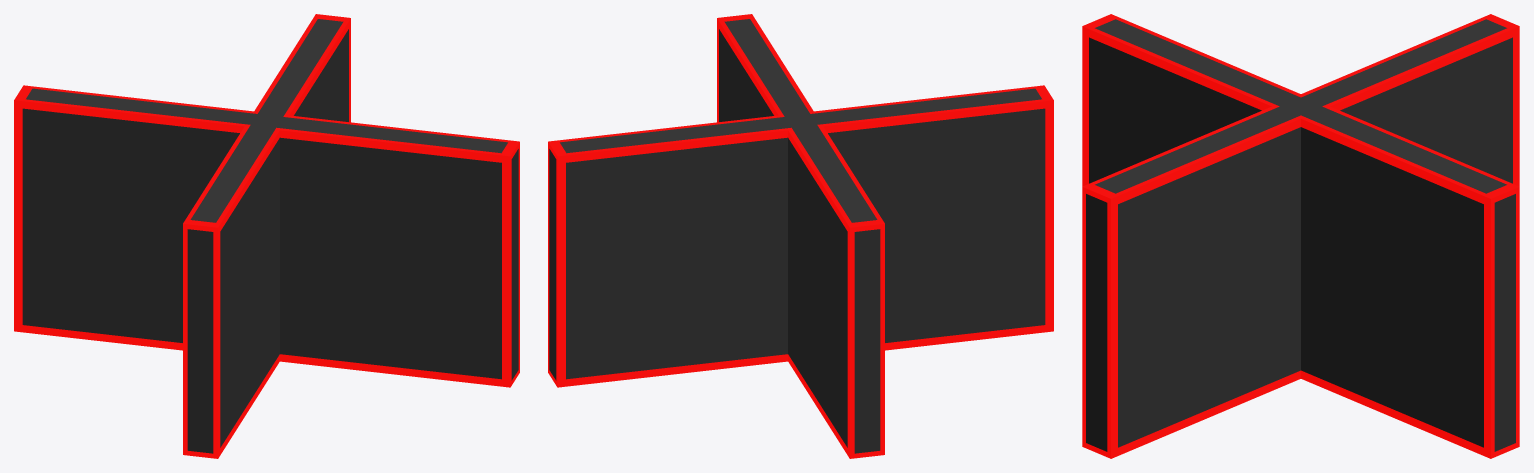
File: barrier.glb
3 renders of one model, left to right at view 1: azimuth 30°, elevation 25°; view 2: azimuth 150°, elevation 25°; view 3: azimuth 270°, elevation 25°, orthographic. The views are drawn at different scales.
Visible parts, largest first — view 1: Cube; view 2: Cube; view 3: Cube.
Boxes of the visible parts, x1,y1,x2,y2 form: Cube: (14, 14, 519, 458); Cube: (548, 14, 1053, 458); Cube: (1082, 14, 1519, 458).
Bounding box in the file's own units: 2.14 × 1.4 × 2.14.
